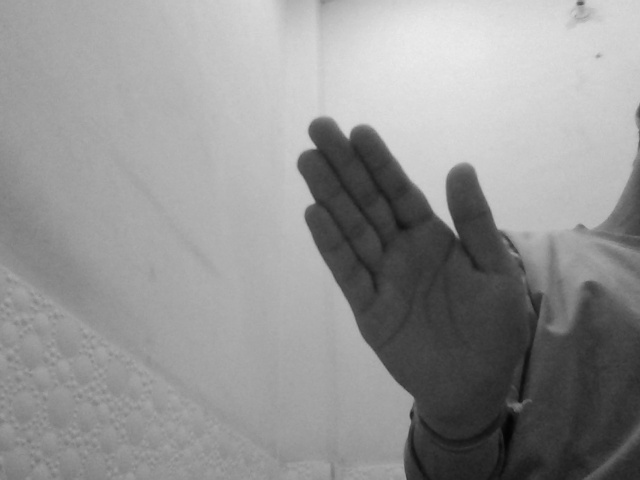Hello: (293, 112, 531, 428)
